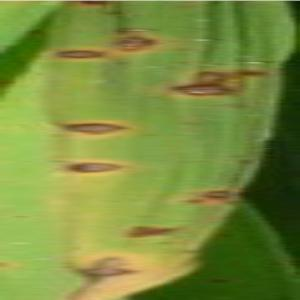Brown_Spot: (47, 153, 136, 182), (166, 77, 246, 105), (54, 114, 134, 141), (116, 219, 190, 245), (64, 261, 146, 283), (41, 43, 114, 66), (105, 34, 166, 56), (233, 59, 280, 84), (190, 65, 238, 89), (196, 185, 246, 207), (108, 22, 168, 37), (173, 194, 207, 210), (206, 274, 234, 287), (210, 228, 235, 242), (71, 1, 118, 8), (10, 211, 32, 221), (1, 256, 11, 275)
